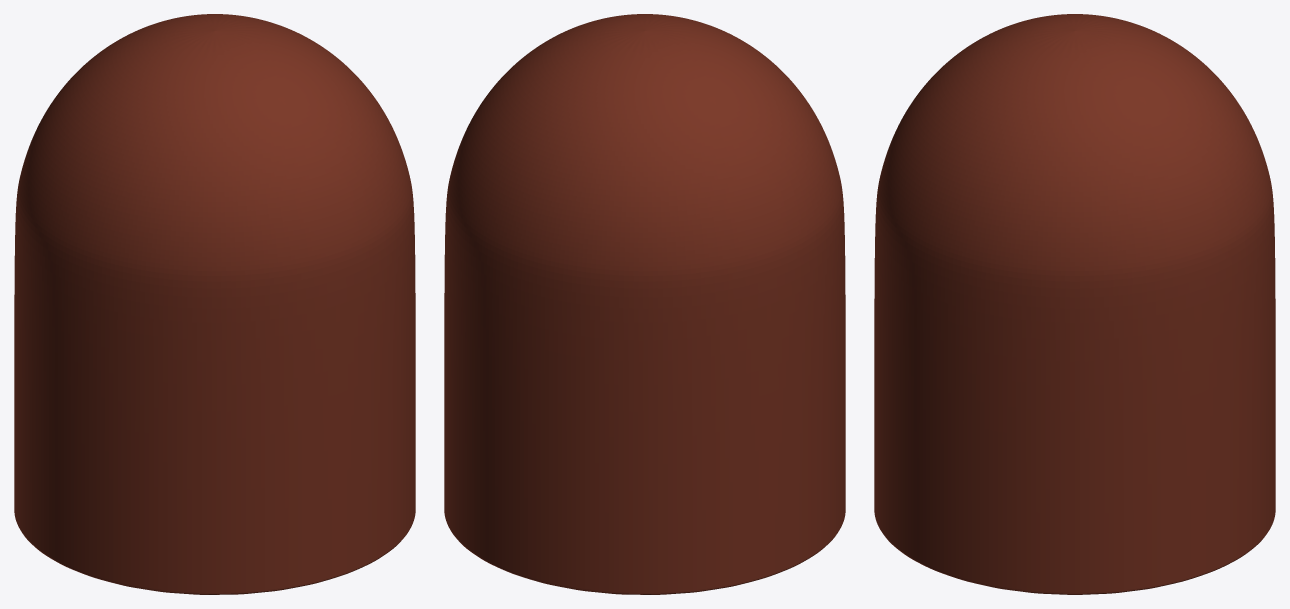
Rendered from Bullet9mm.fbx.
3 renders of one model, left to right at view 1: azimuth 30°, elevation 25°; view 2: azimuth 150°, elevation 25°; view 3: azimuth 270°, elevation 25°, orthographic.
Parts seen in each view (by area): view 1: Sphere; view 2: Sphere; view 3: Sphere.
Boxes of the visible parts, box(x1,y1,x2,y2) form: Sphere: box(14, 14, 415, 594); Sphere: box(444, 14, 845, 594); Sphere: box(874, 14, 1275, 594).
Bounding box in the file's own units: 39.74 × 52.78 × 39.74.
